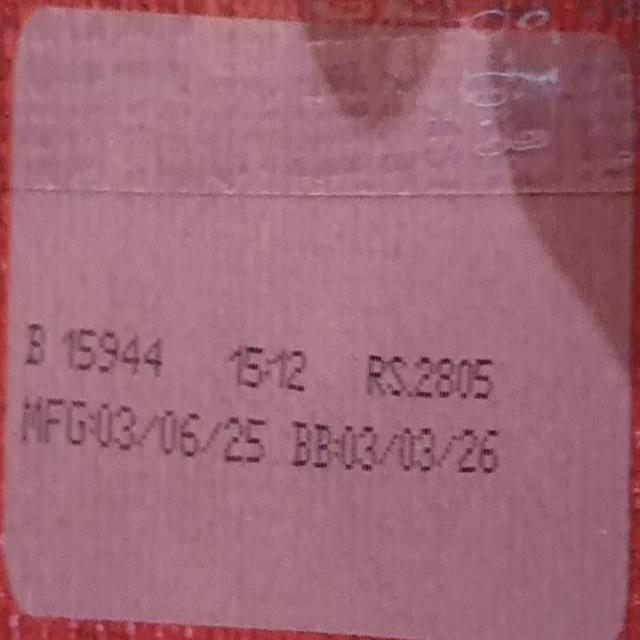BB: (291, 402, 504, 502)
Batch: (25, 290, 178, 392)
MFG: (22, 384, 270, 502)
RS: (364, 336, 497, 418)
TimeStamp: (228, 317, 322, 408)
